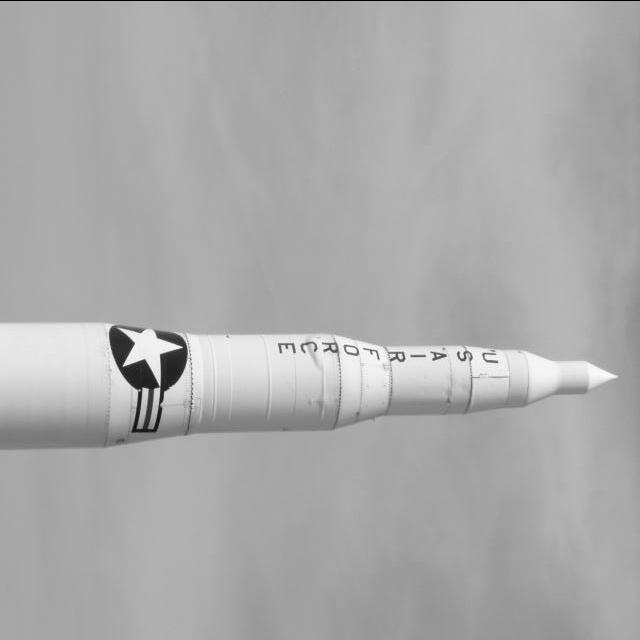Missile: (2, 328, 623, 454)
